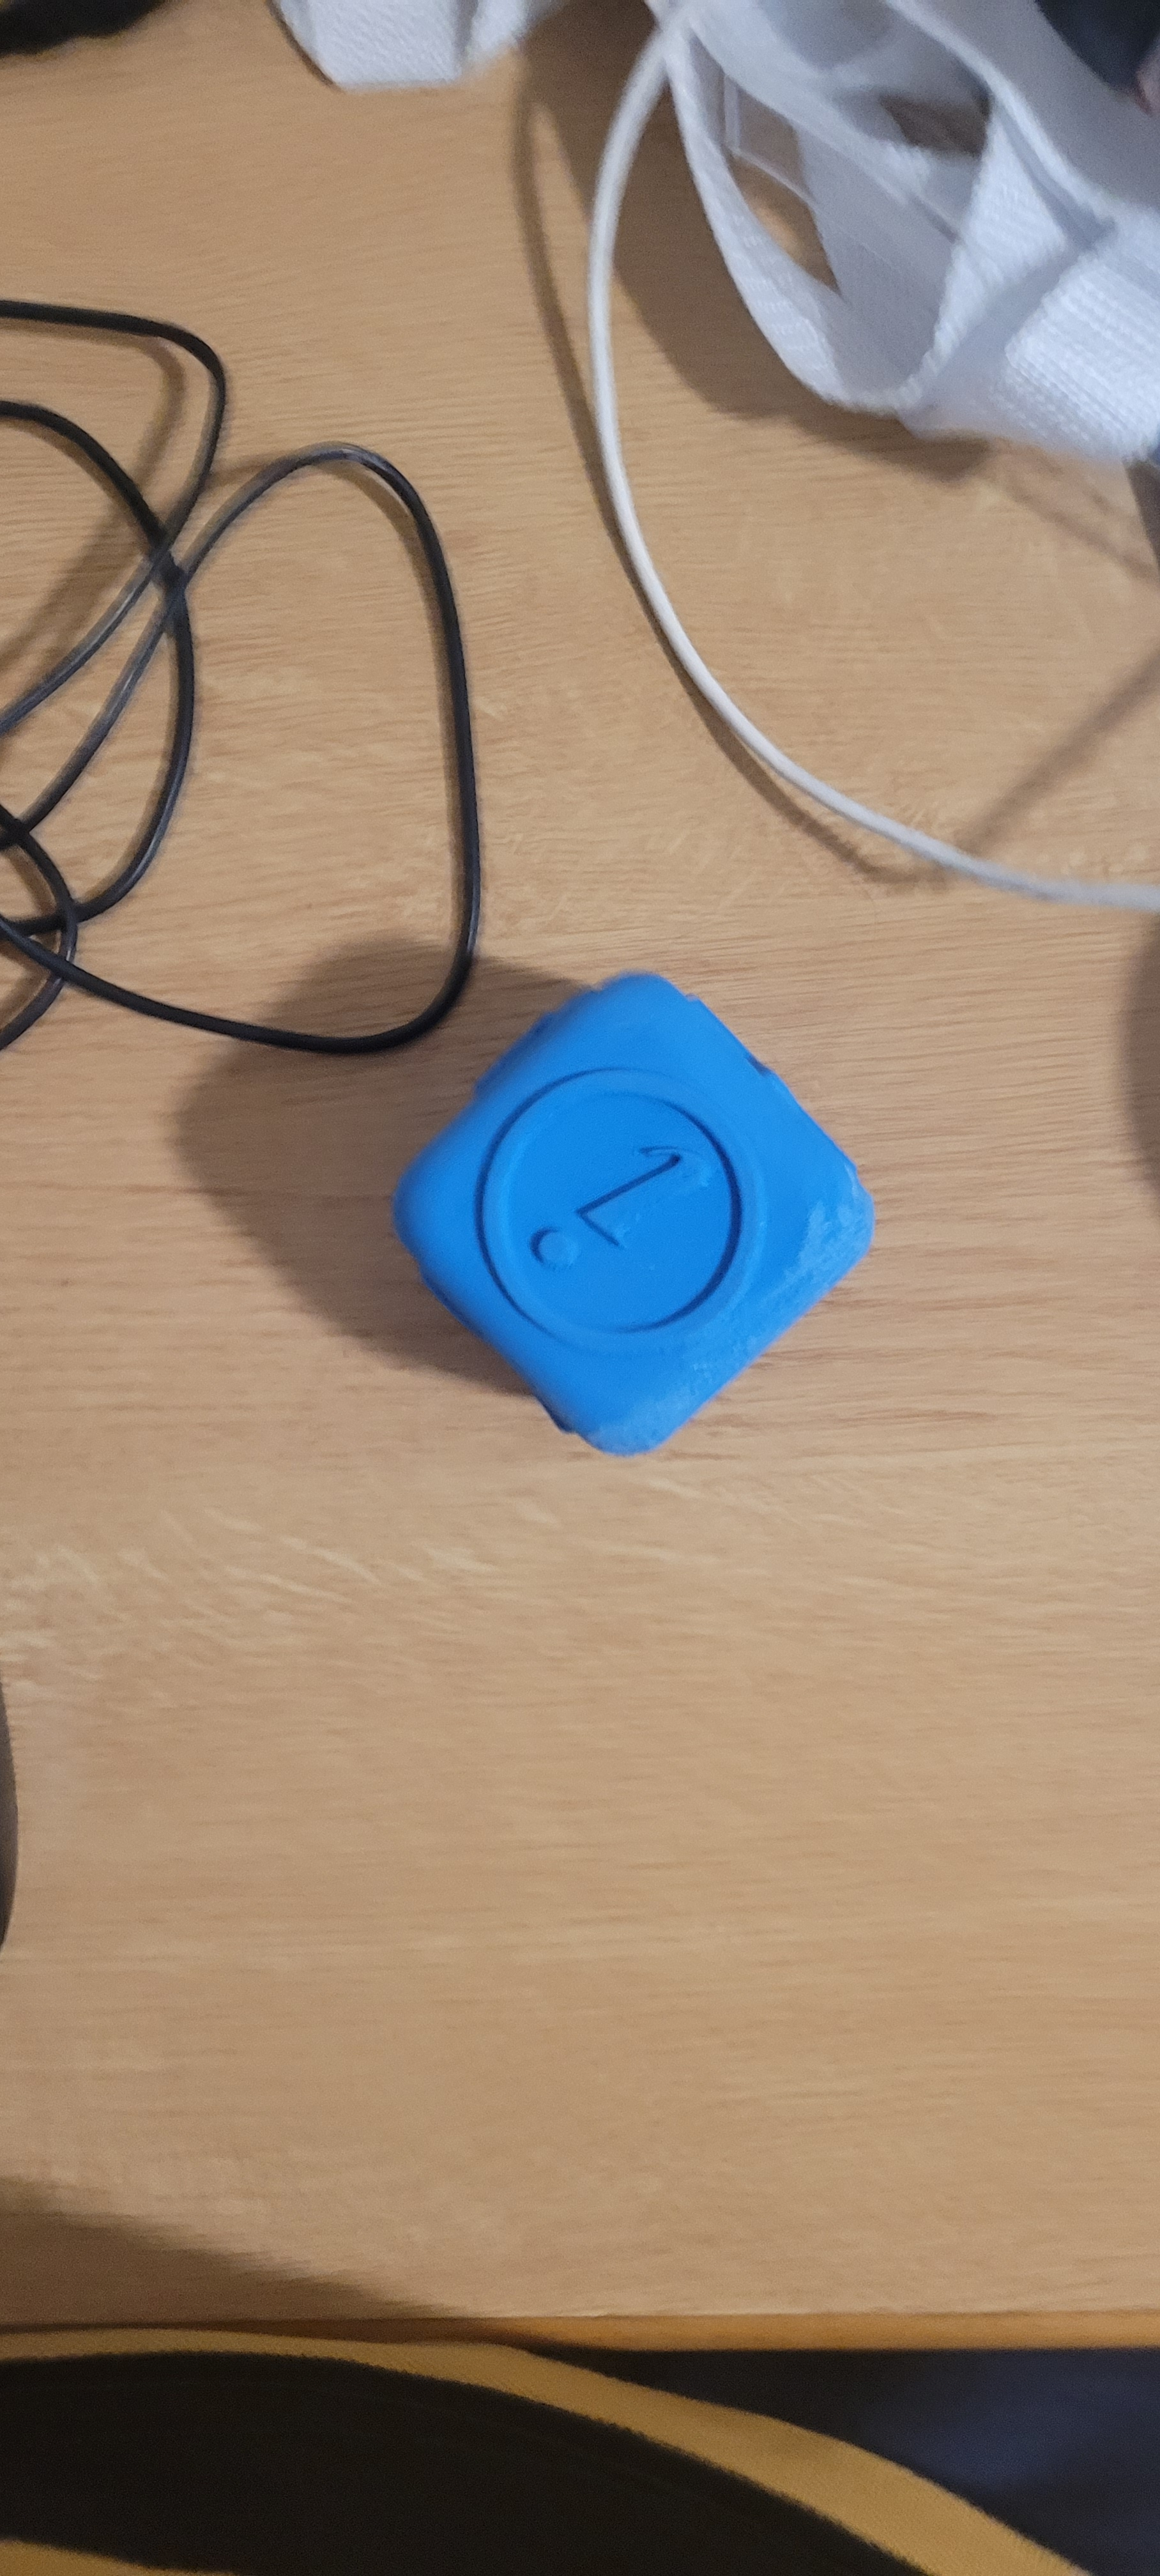Info: (403, 1010, 787, 1387)
